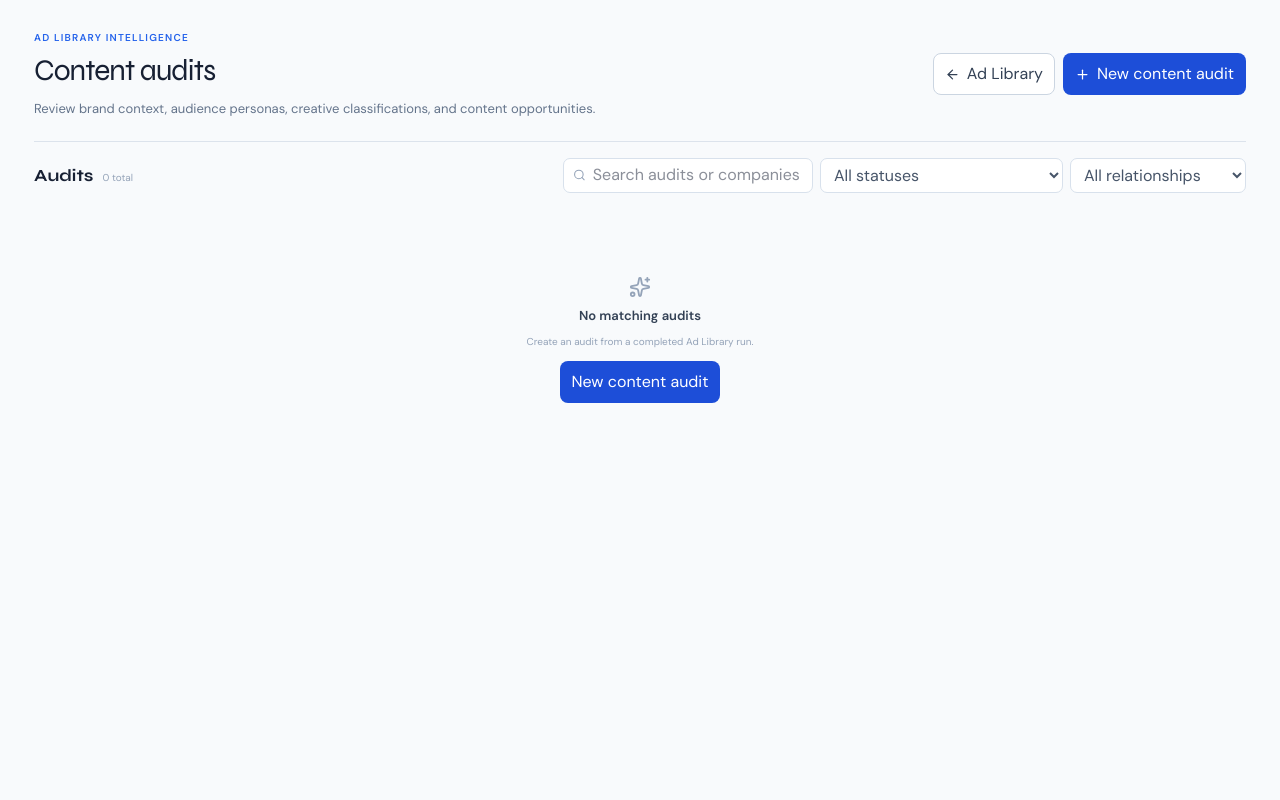
Test: Ad Library audit workflow › starts a new audit from a focused two-step dialog
Click the button "New content audit" in the row of "Content audits" at (1154, 74), box [1063,53,1246,95]
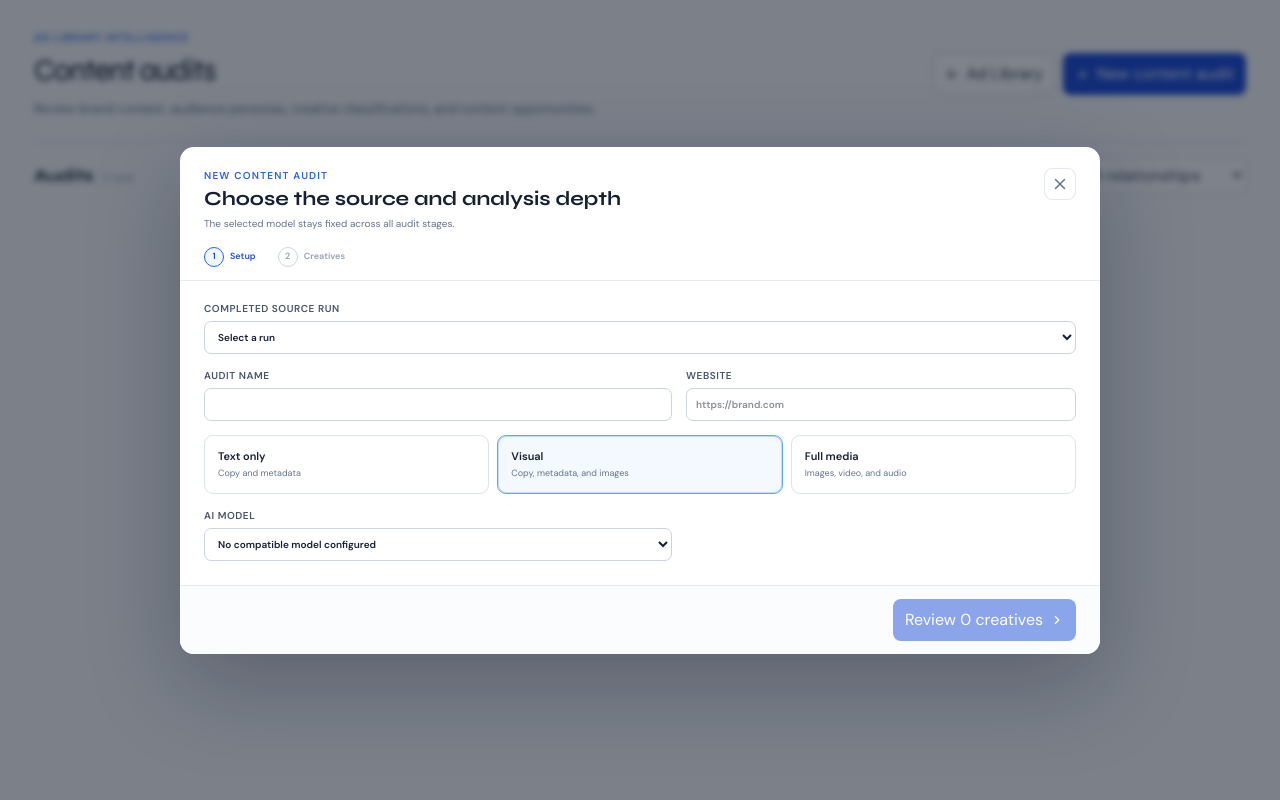
Now the dialog "Choose the source and analysis depth" is shown, box [180,146,1100,654]
Select "#4 · Acme Ad Library audit · Competitor · 1 ads" in the dropdown labelled "Completed source run" at (640, 337), box [204,320,1076,354]
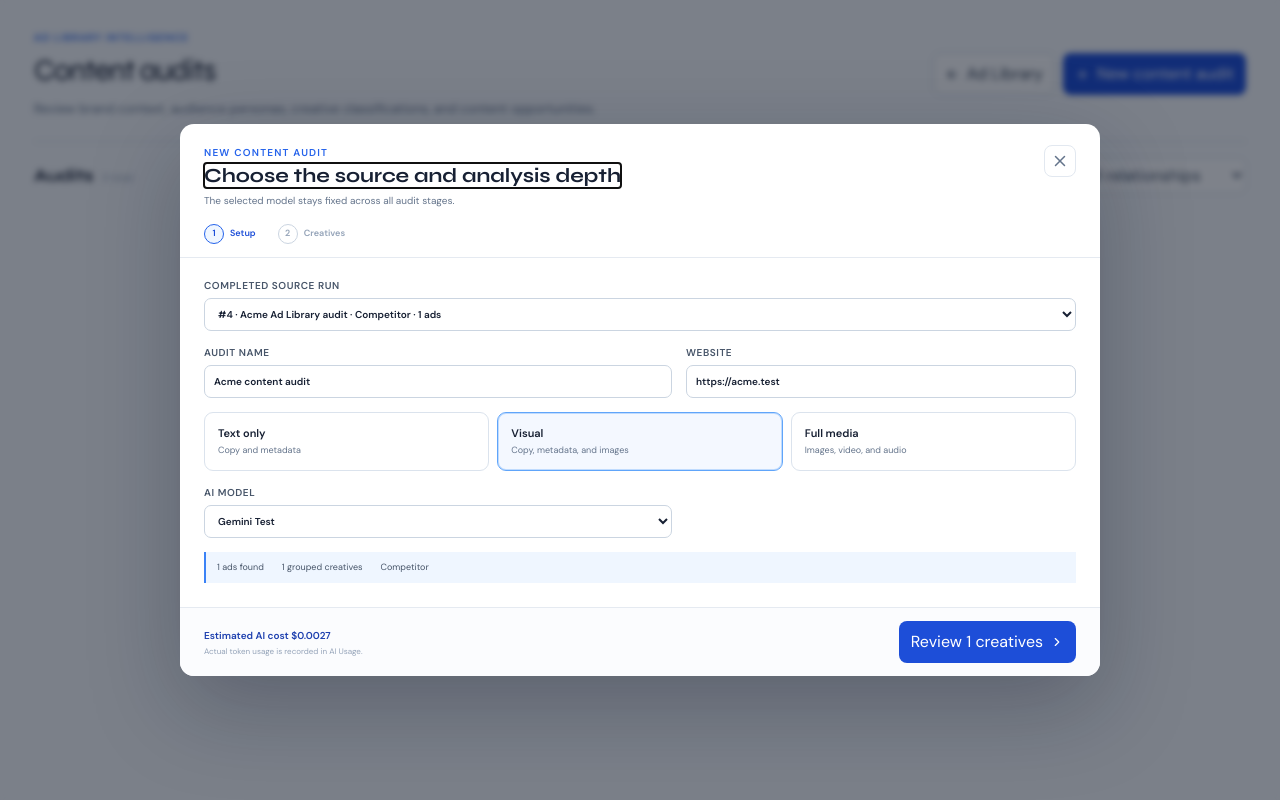
Now the field showing "Acme content audit" is shown, box [204,365,672,398]
Now the button "Review 1 creatives" is enabled, box [899,621,1076,663]
